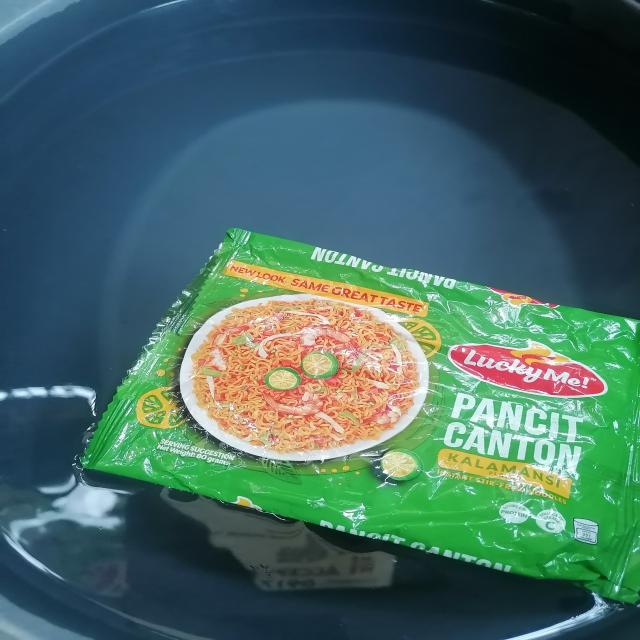Plastic Wrapper: (80, 229, 640, 604)
